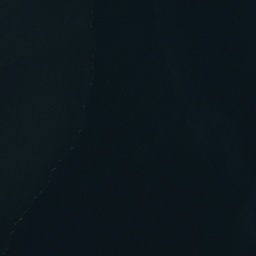Marine Debris: (9, 216, 23, 238)
